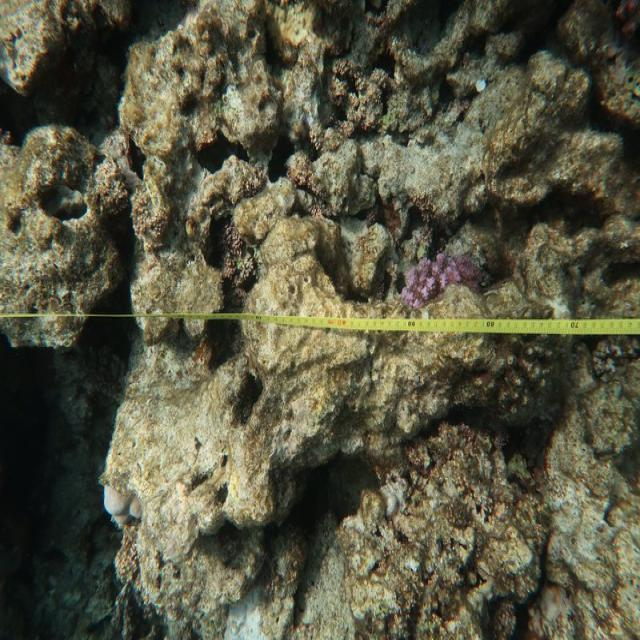Healthy Coral: (400, 250, 480, 306)
